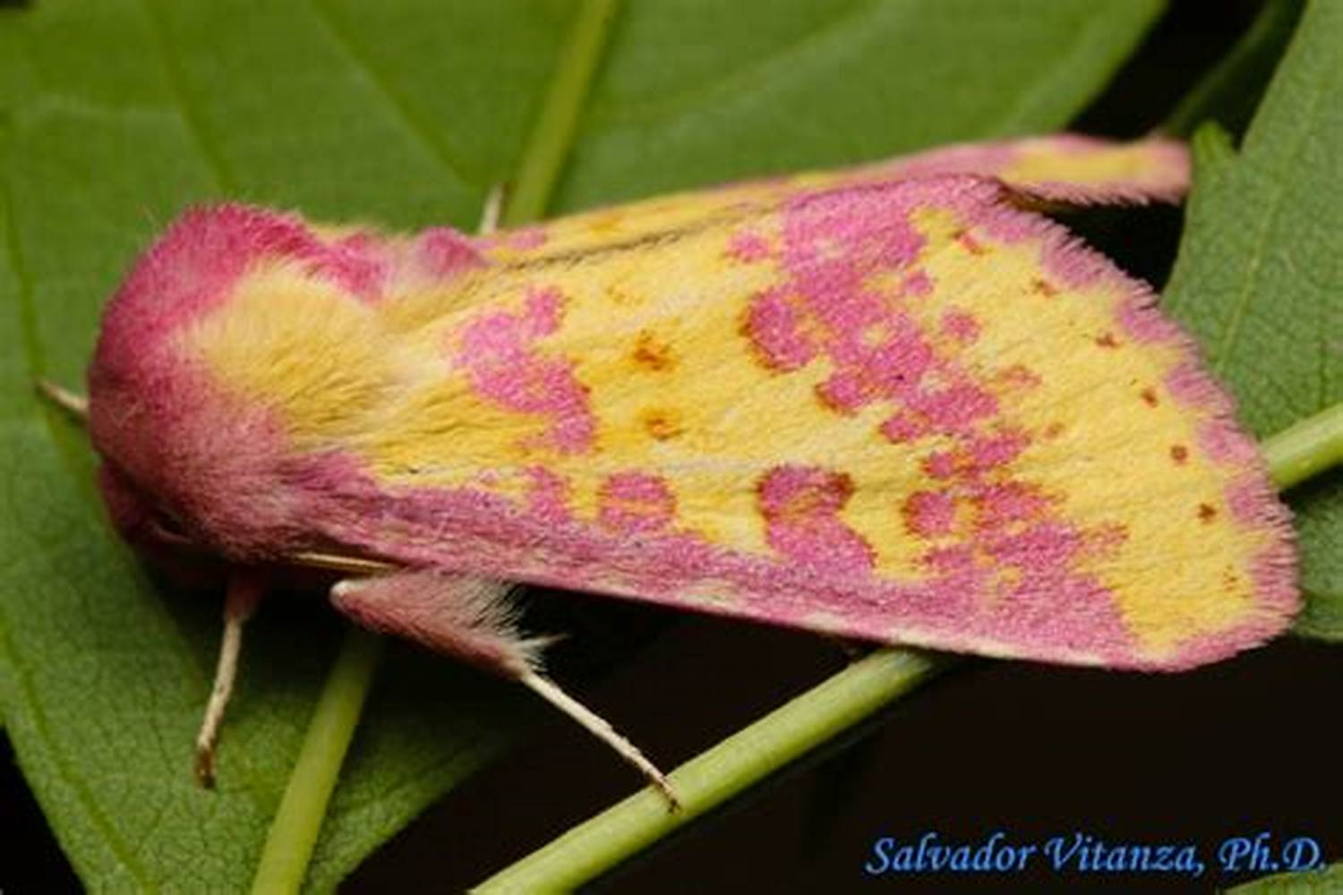Noctuidae: (44, 106, 1306, 822)
